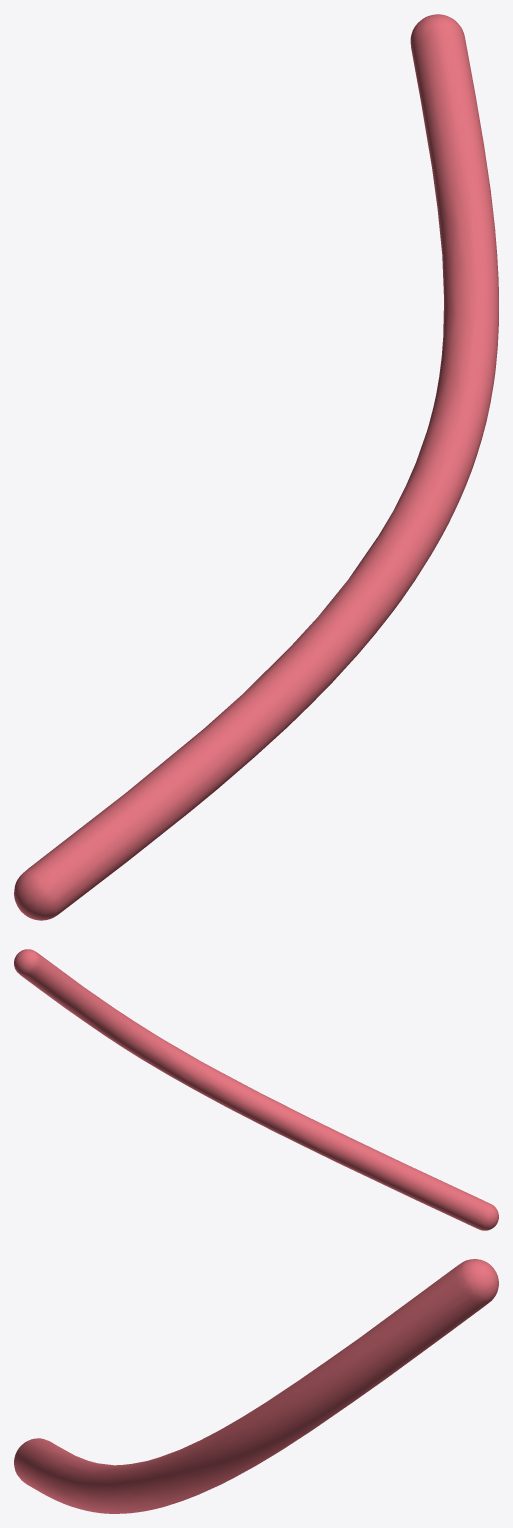
File: fma22964_fj2287.glb
3 views of the same model, one above another, from view 1: azimuth 30°, elevation 25°; view 2: azimuth 150°, elevation 25°; view 3: azimuth 270°, elevation 25° (orthographic). The views are drawn at different scales.
Parts seen in each view (by area): view 1: FMA22964_FJ2287; view 2: FMA22964_FJ2287; view 3: FMA22964_FJ2287.
Part boxes in pixels (left/top/right/bottom): FMA22964_FJ2287: left=14, top=14, right=498, bottom=920; FMA22964_FJ2287: left=14, top=949, right=498, bottom=1230; FMA22964_FJ2287: left=14, top=1259, right=498, bottom=1513.
Size of the model in its own units: 0.0504 by 0.0395 by 0.0346.
